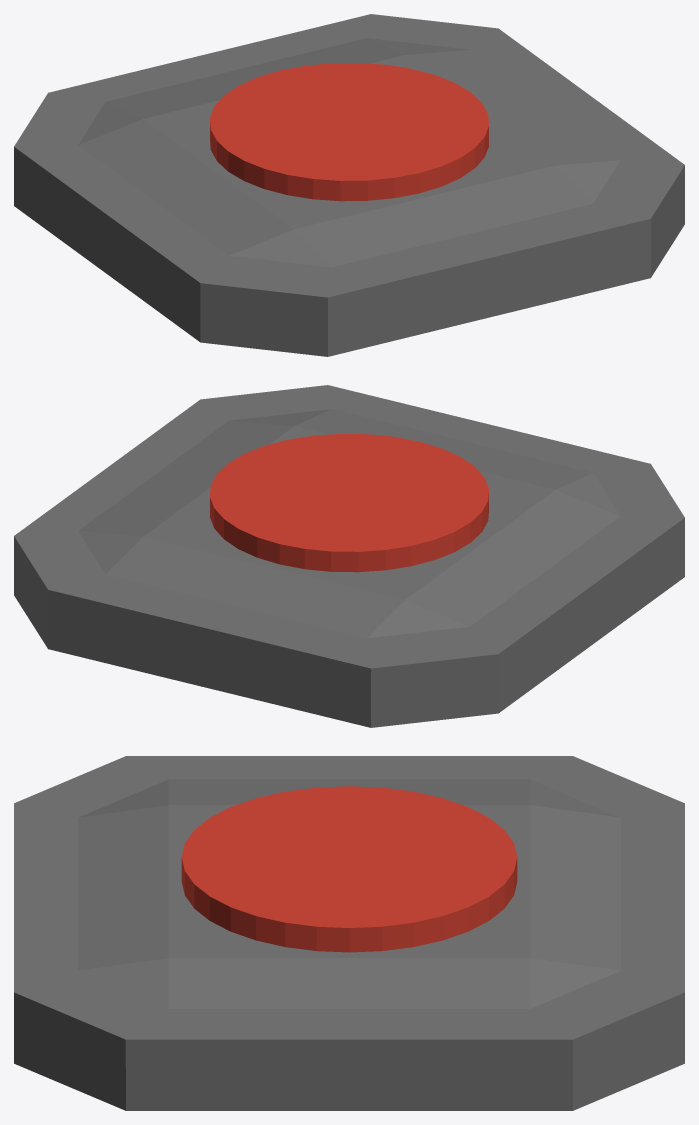
The model's file is kunci batu.fbx.
The picture shows the model from 3 angles, top to bottom: view 1: azimuth 30°, elevation 25°; view 2: azimuth 150°, elevation 25°; view 3: azimuth 270°, elevation 25°; orthographic projection. The views are drawn at different scales.
Visible parts, largest first — view 1: Cube, Cylinder; view 2: Cube, Cylinder; view 3: Cube, Cylinder.
Part boxes in pixels (left/top/right/bottom): Cube: left=14, top=14, right=684, bottom=356; Cylinder: left=210, top=63, right=488, bottom=201; Cube: left=14, top=385, right=684, bottom=727; Cylinder: left=210, top=434, right=488, bottom=572; Cube: left=14, top=756, right=684, bottom=1110; Cylinder: left=181, top=786, right=517, bottom=952.
Size of the model in its own units: 200 by 36.79 by 200.
